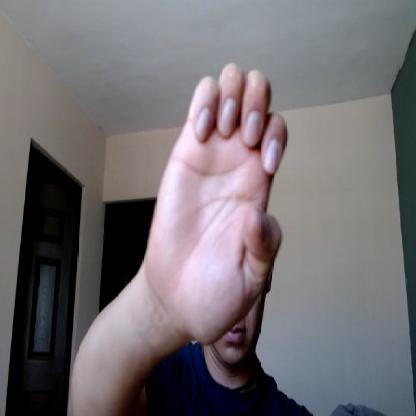E: (146, 64, 290, 343)
